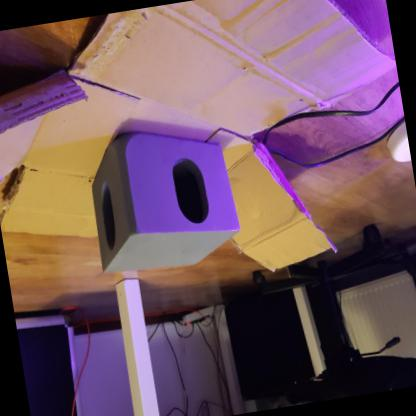CornerCasting: (78, 125, 246, 282)
